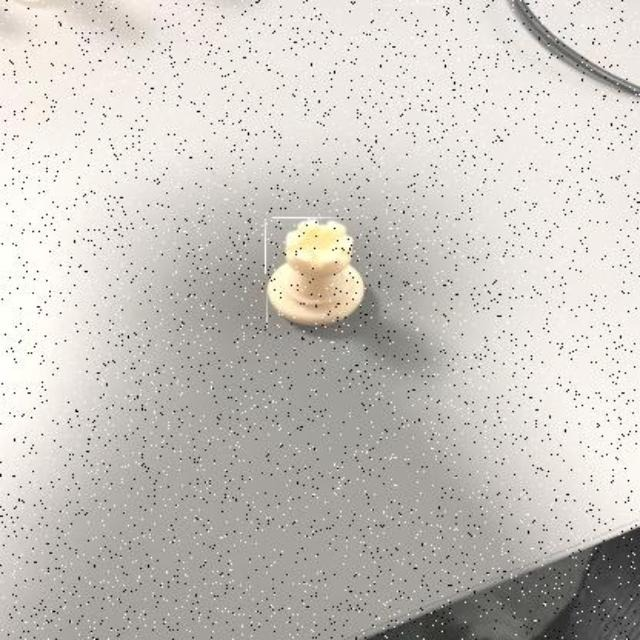white-rook: (265, 217, 366, 329)
